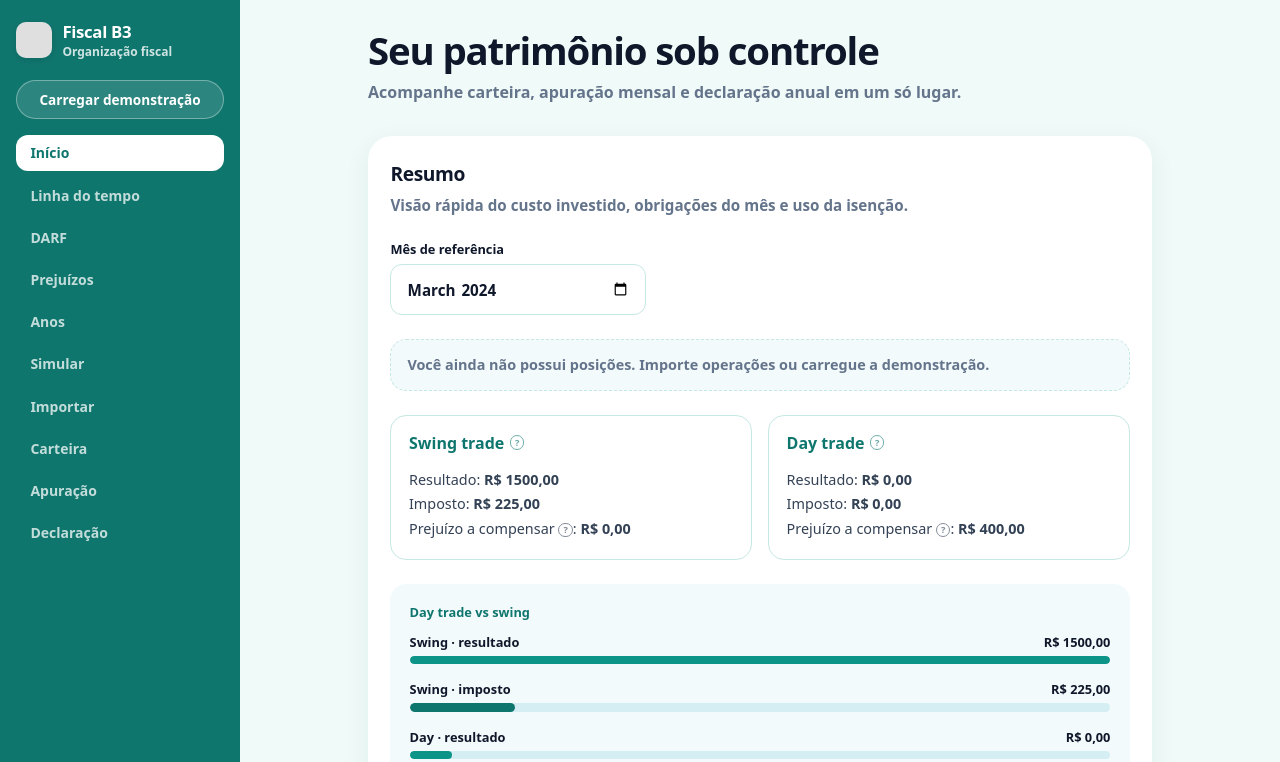
Test case: Web UI › loads demonstration and shows dashboard KPIs
The image size is (1280, 762).
Check: the text "Você ainda não possui posições. Importe operações ou carregue a demonstração." is shown, box [390, 339, 1130, 391]
Click the button "Carregar demonstração".
click(120, 99)  # box [16, 80, 224, 119]
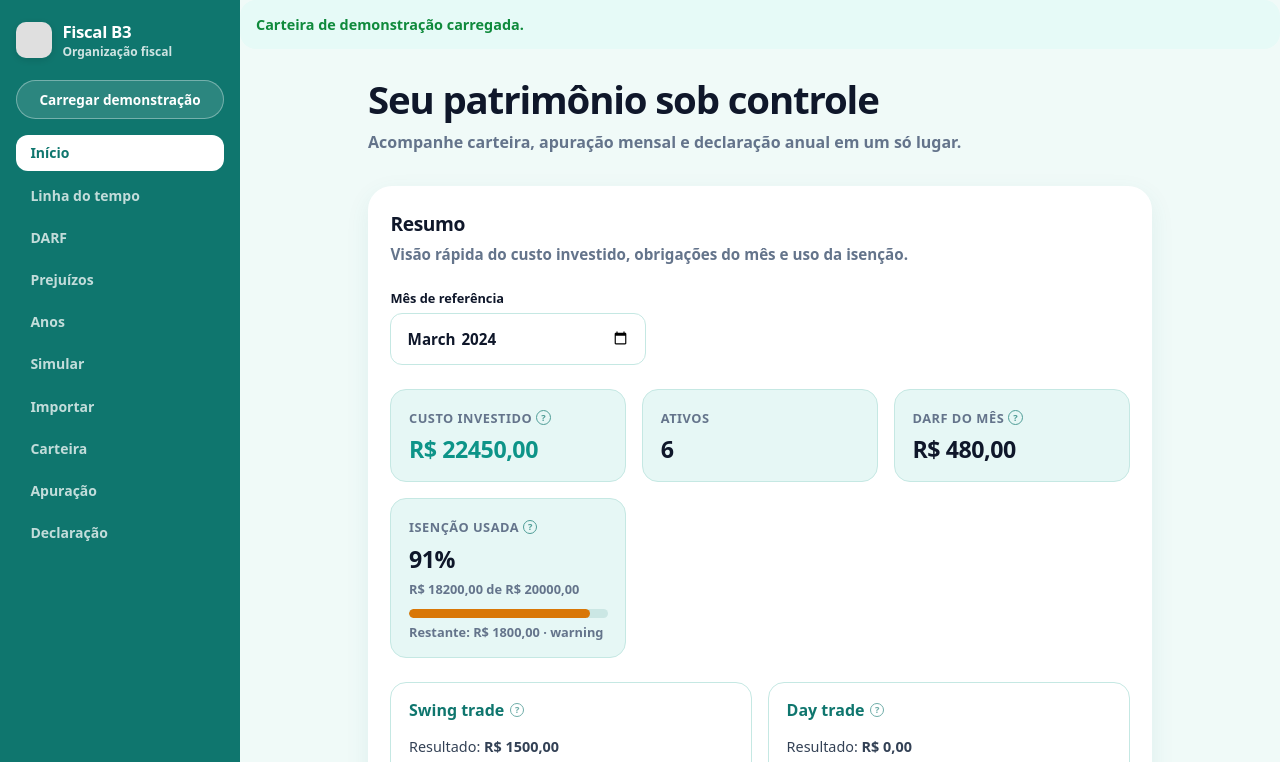
Check: the text "Carteira de demonstração carregada." is shown, box [240, 0, 1279, 49]
Check: the element with test id "dashboard-kpis" is shown, box [390, 388, 1130, 658]
Check: the text "6" is shown, box [661, 433, 674, 465]
